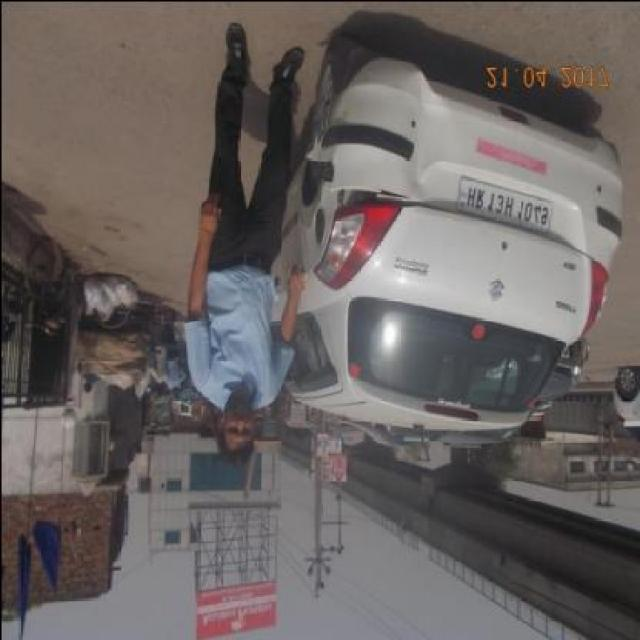damage: (405, 71, 447, 182), (310, 94, 352, 188), (332, 180, 434, 207)
